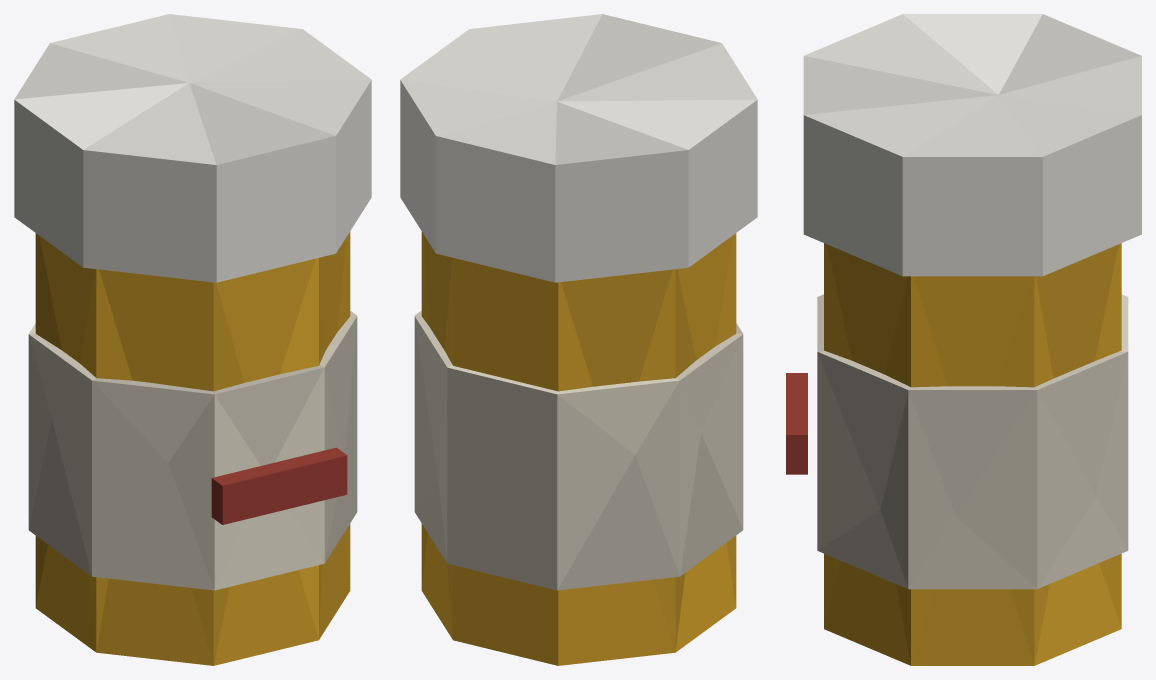
The model's file is painkiller_silnoe_idle.glb.
3 views of the same model, side by side, from view 1: azimuth 30°, elevation 25°; view 2: azimuth 150°, elevation 25°; view 3: azimuth 270°, elevation 25° (orthographic).
Parts seen in each view (by area): view 1: painkiller_silnoe_idle; view 2: painkiller_silnoe_idle; view 3: painkiller_silnoe_idle.
Boxes of the visible parts, box(x1,y1,x2,y2) form: painkiller_silnoe_idle: box(14, 14, 371, 665); painkiller_silnoe_idle: box(400, 14, 757, 665); painkiller_silnoe_idle: box(786, 14, 1141, 665).
Bounding box in the file's own units: 0.0462 × 0.078 × 0.0486.
1 material, 1 textured.
